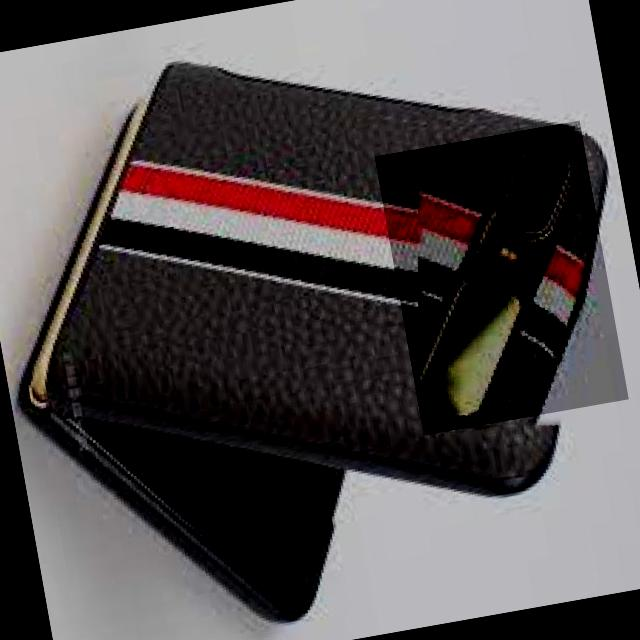lens_back: (488, 138, 578, 244)
